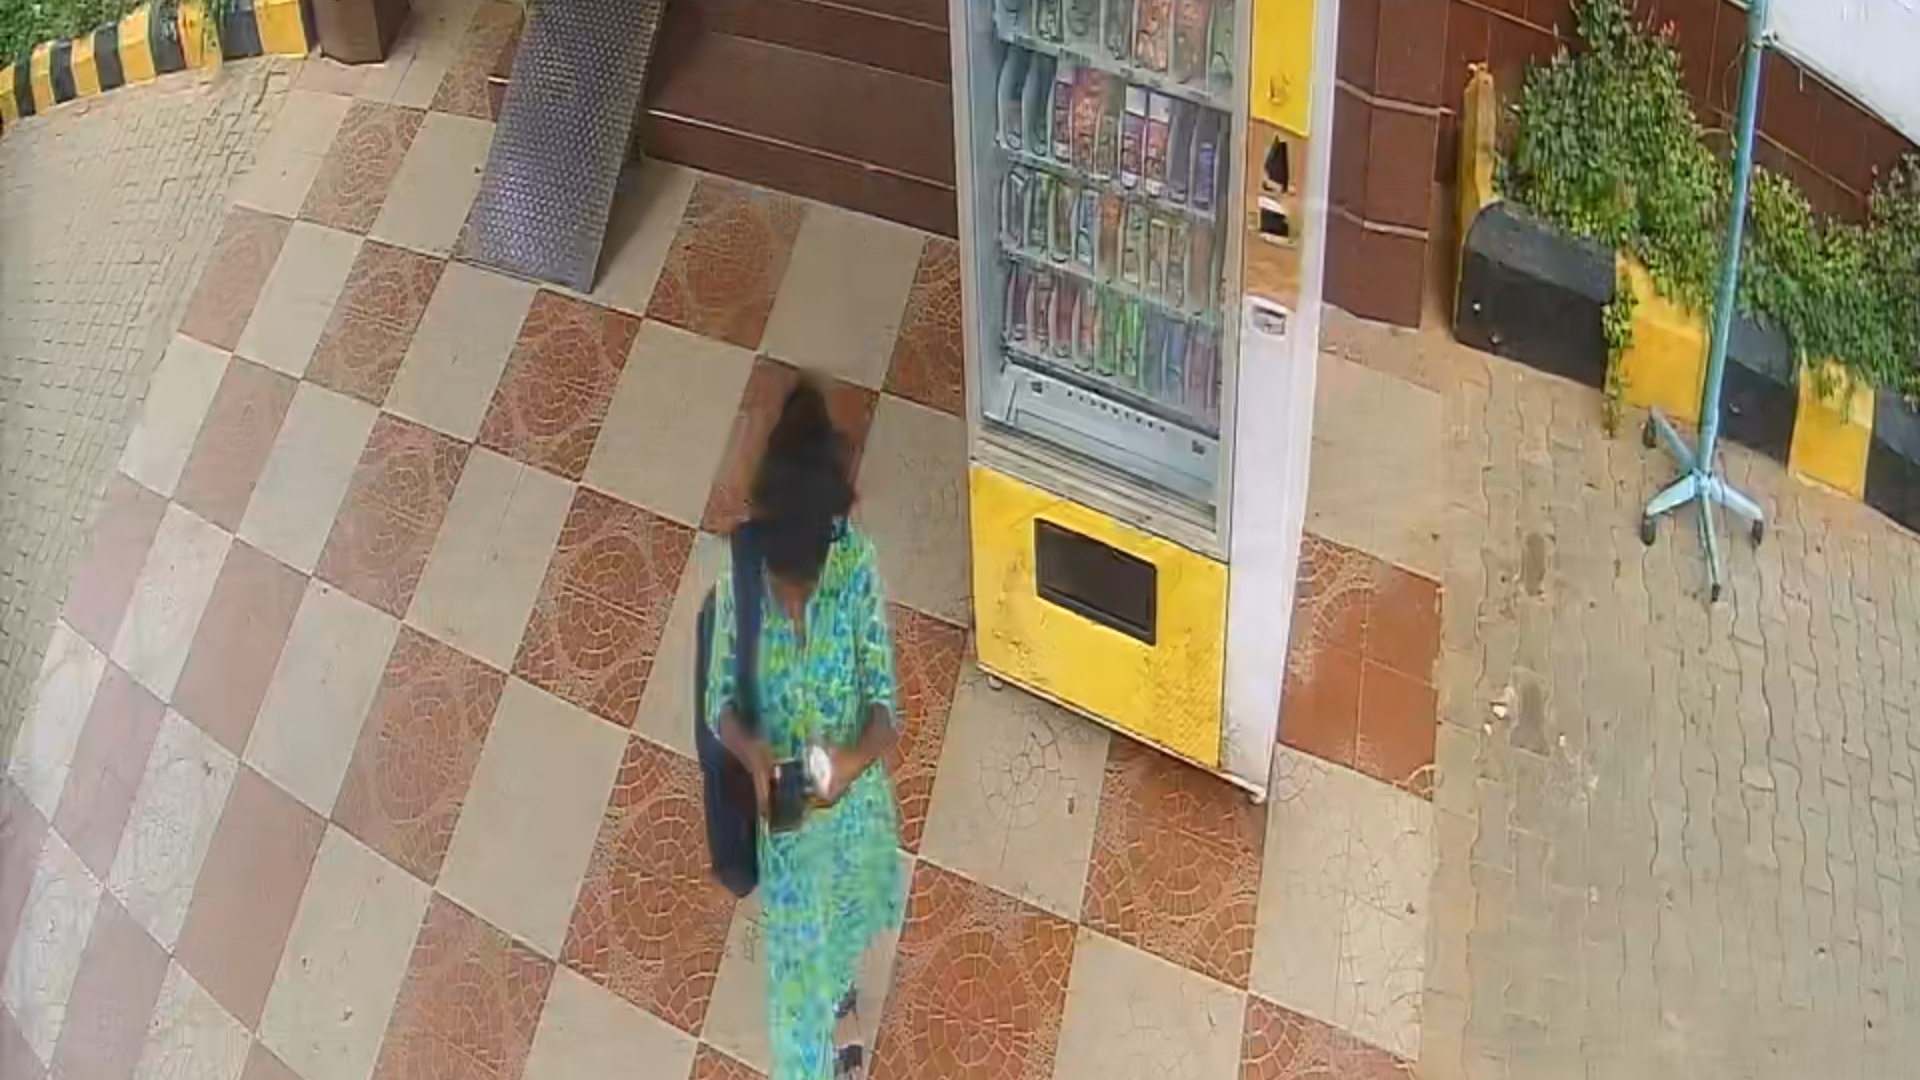intruder: (684, 355, 915, 1080)
